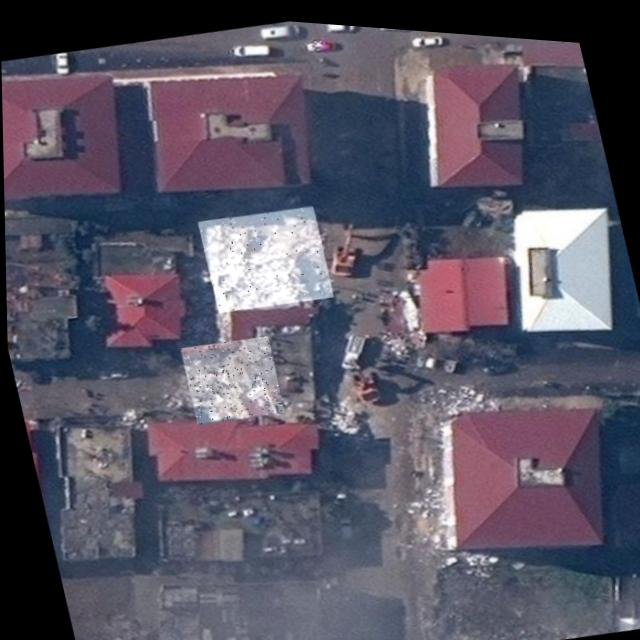Rubble: (195, 194, 332, 317), (177, 326, 283, 427)
